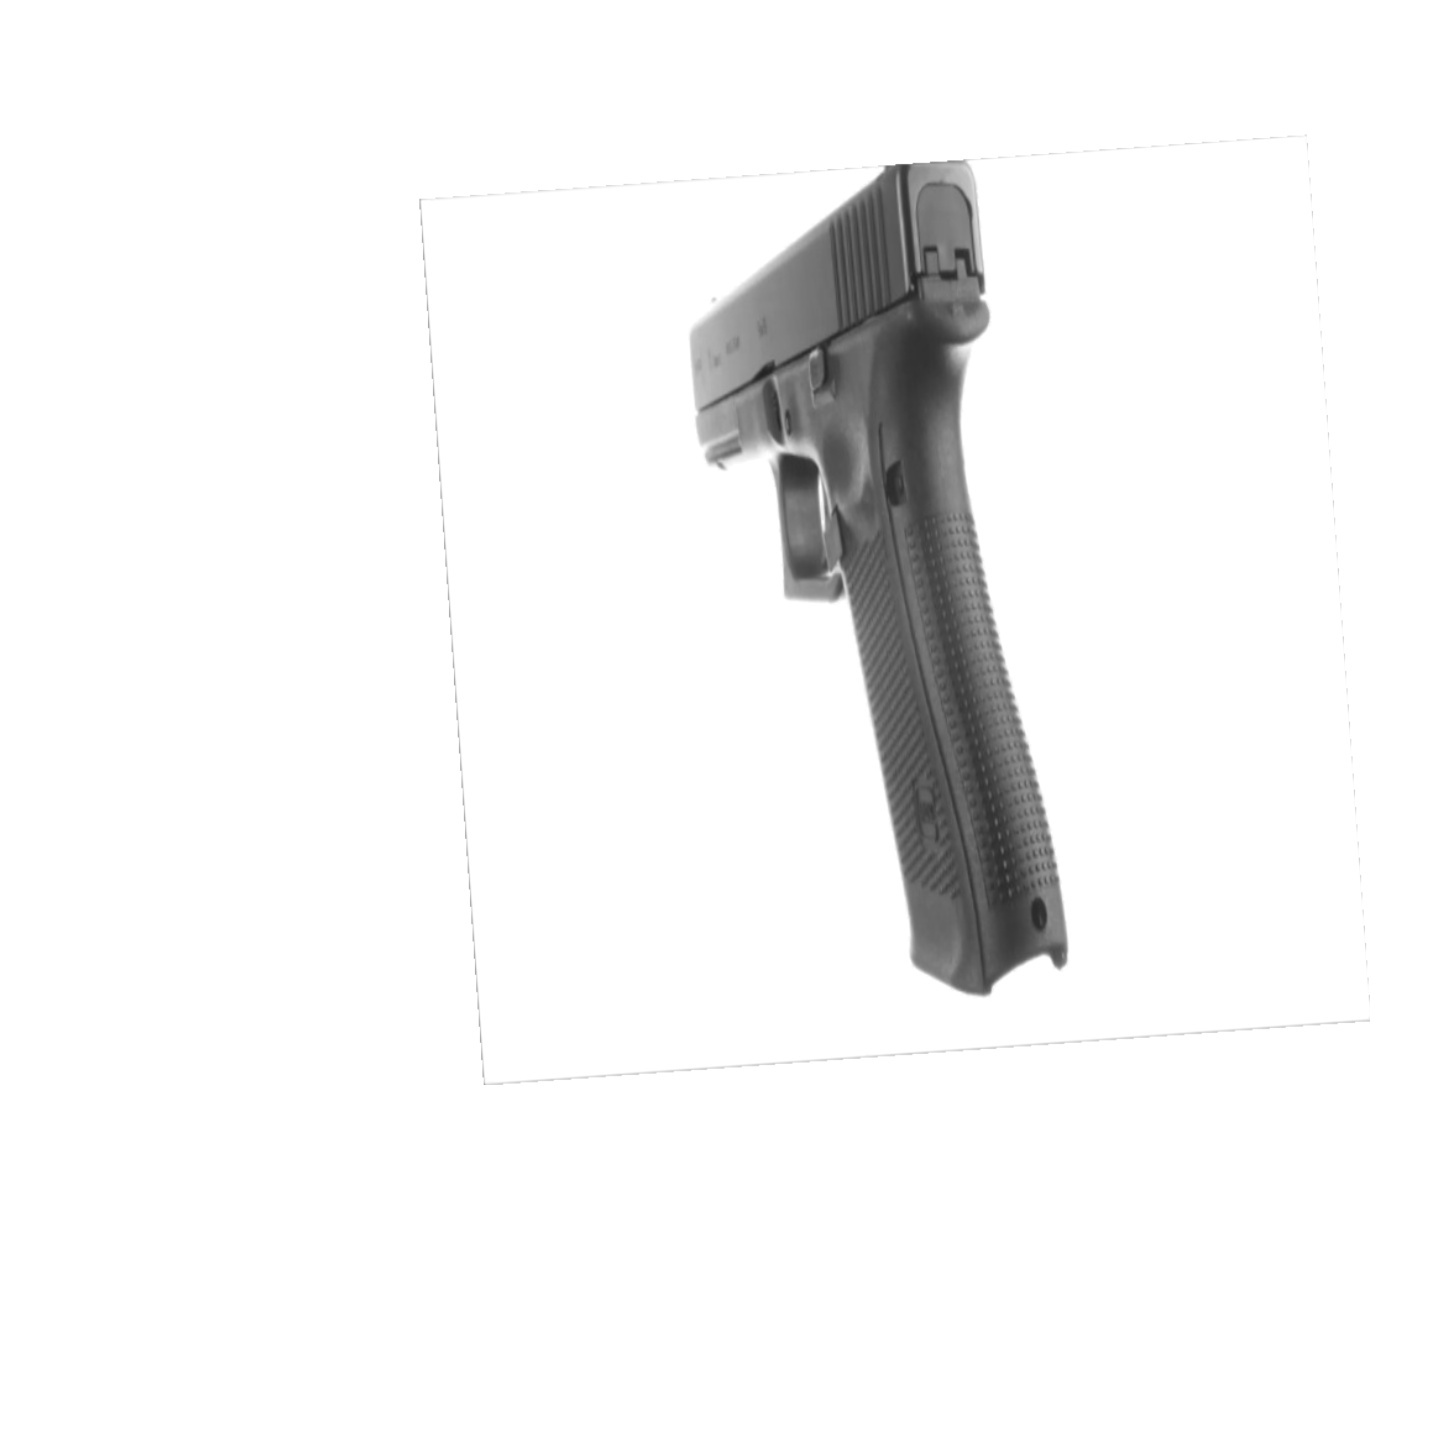gun: (689, 166, 1071, 996)
